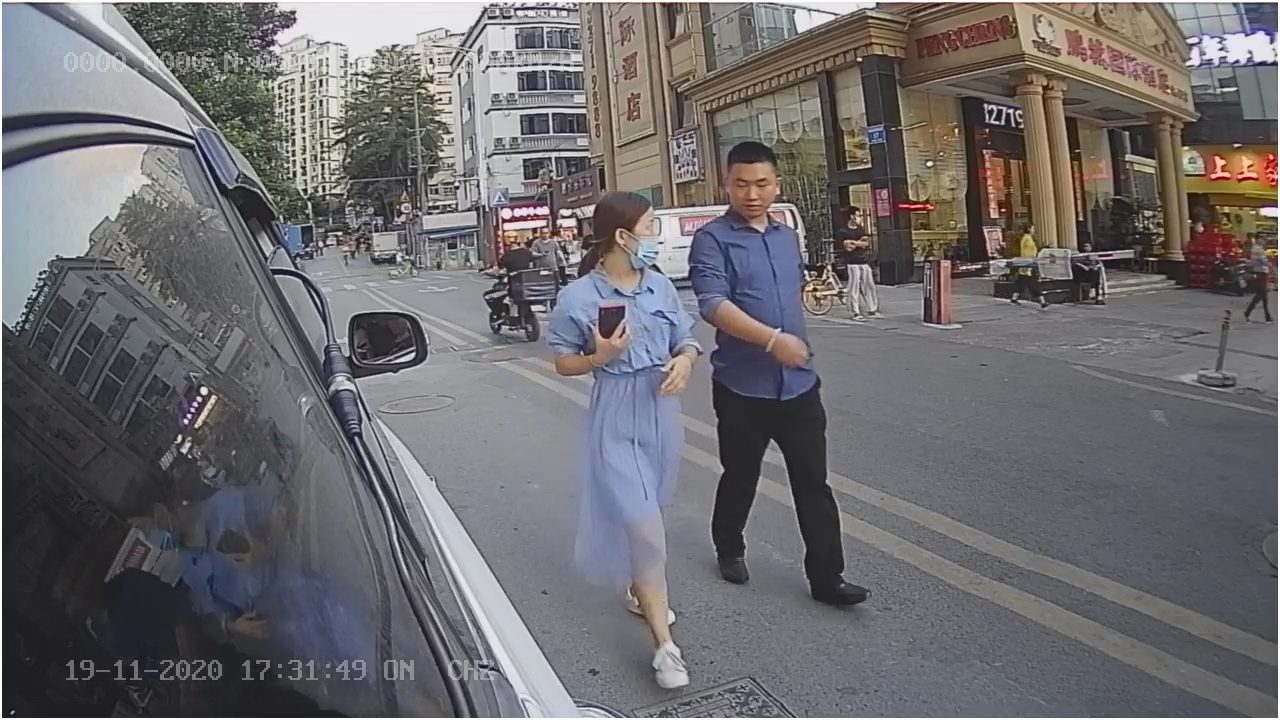person: (696, 156, 838, 576), (542, 194, 695, 562)
